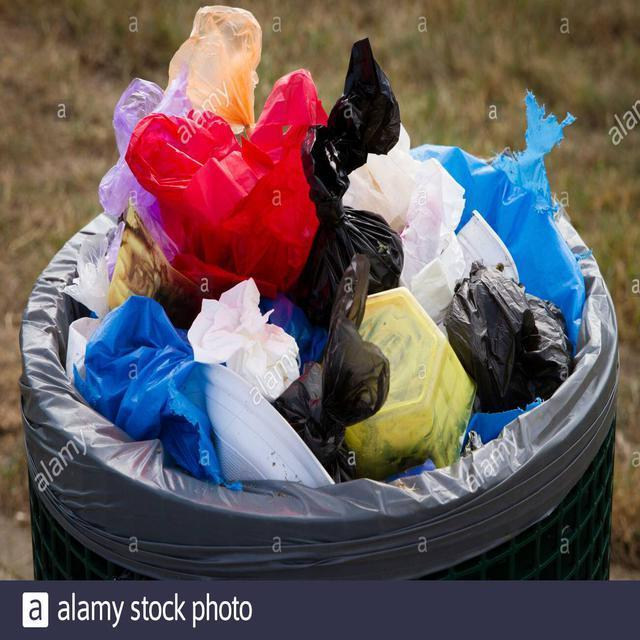garbage: (54, 0, 590, 504)
